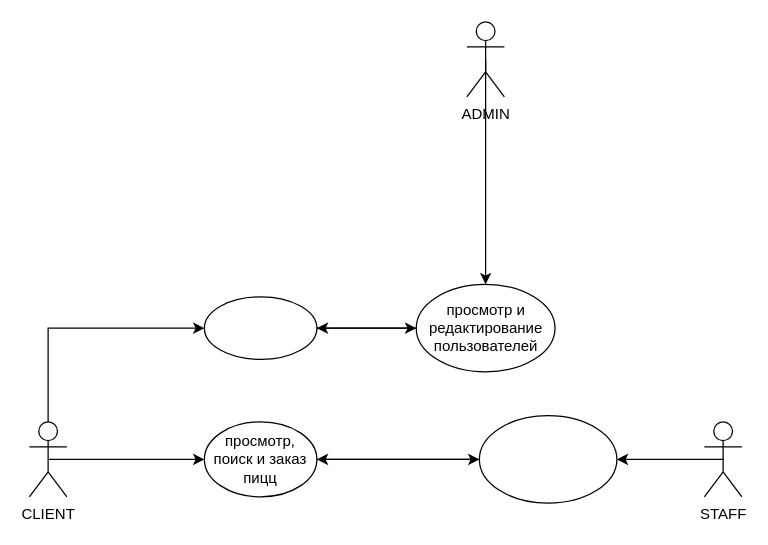
Image size: 768x545. Some labels were removed from this diagram. The centre of each missing label's shape, as x and y in pixels:
Просмотр заказов и изменения их статусов: (547,458)
регистрация на сайте: (260,327)
